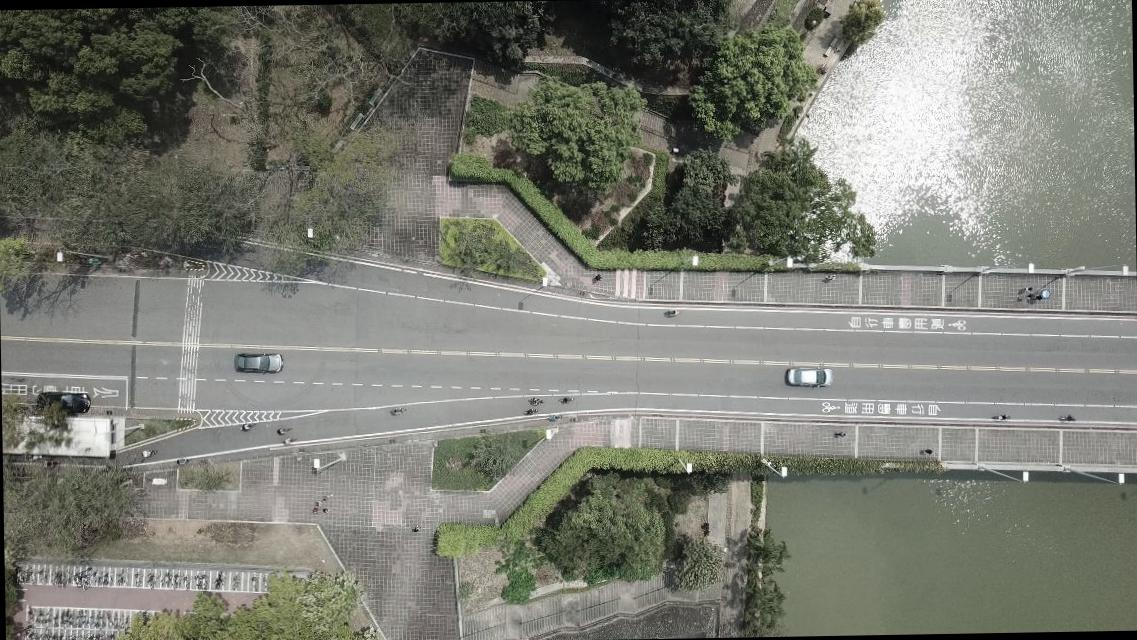vehicle: (37, 390, 90, 414), (234, 352, 282, 374), (786, 367, 833, 388)
